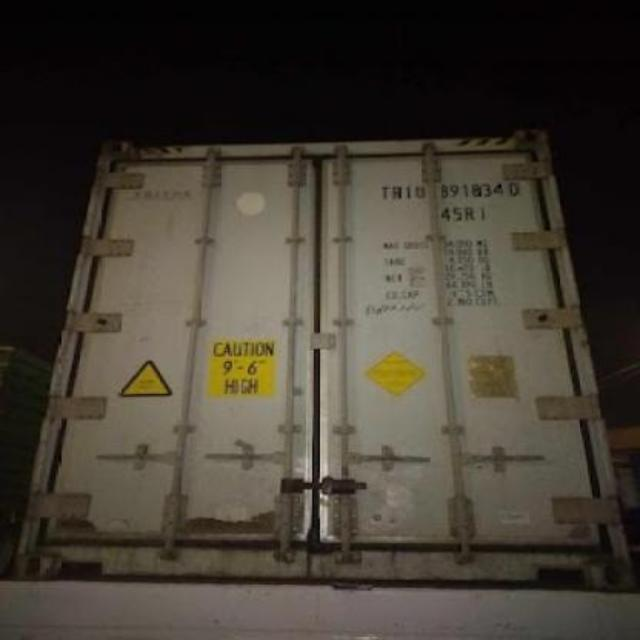0: (508, 178, 522, 200)
1: (458, 178, 470, 198)
3: (480, 177, 492, 200)
4: (491, 178, 504, 198)
8: (436, 177, 448, 201), (470, 178, 482, 198)
9: (448, 178, 458, 198)
I: (404, 178, 414, 200)
R: (390, 183, 402, 201)
T: (376, 180, 392, 202)
U: (414, 178, 426, 202)
